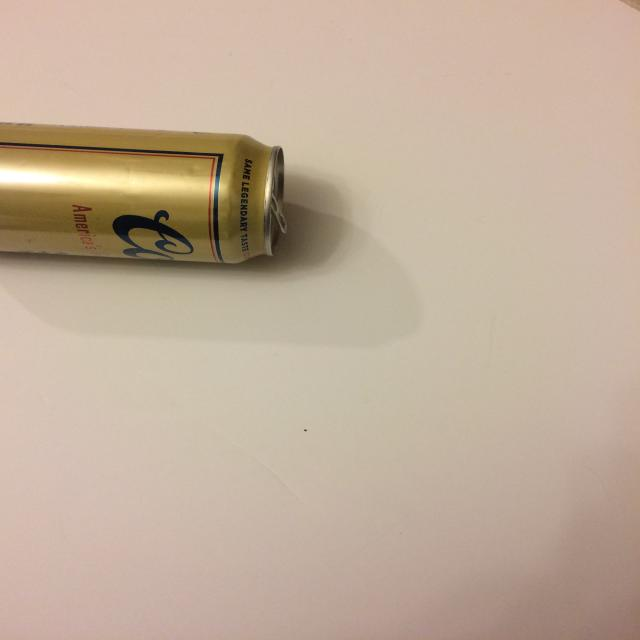metal: (0, 119, 288, 265)
